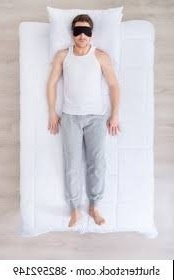fall: (40, 12, 132, 228)
